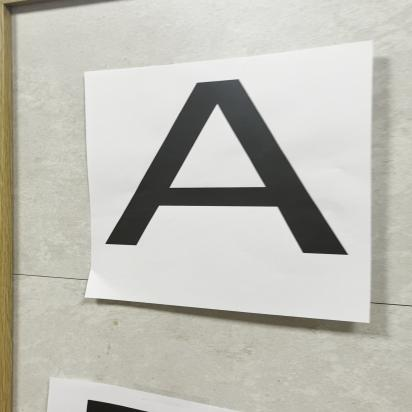seat: (98, 74, 374, 265)
